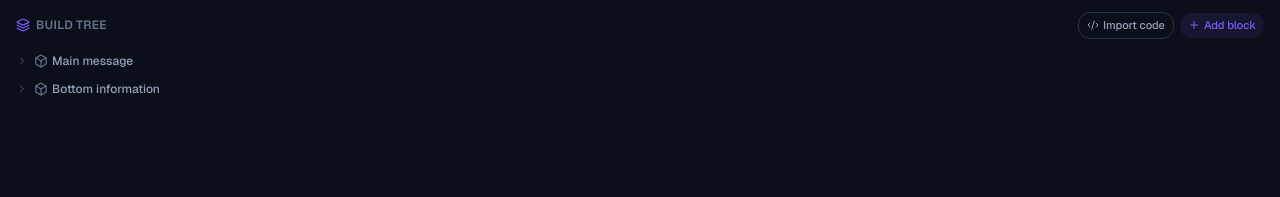
BuildTreePanel rendering › expands a section to reveal bound child blocks
This screenshot has width=1280, height=197.
Expected: the number of list items with test id "block-row-s-hero" is 1, 14,52 -> 133,68
Note: Expand hero.
Click the button named "Expand" next to "Main message" at (22, 60), box 14,52 -> 30,68
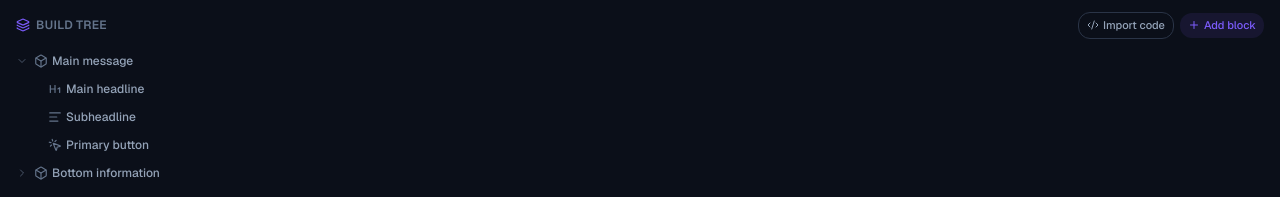
Now the text "Main headline" is shown, box 66,80 -> 144,96
Now the text "Subheadline" is shown, box 66,108 -> 136,124
Now the text "Primary button" is shown, box 66,136 -> 149,152
